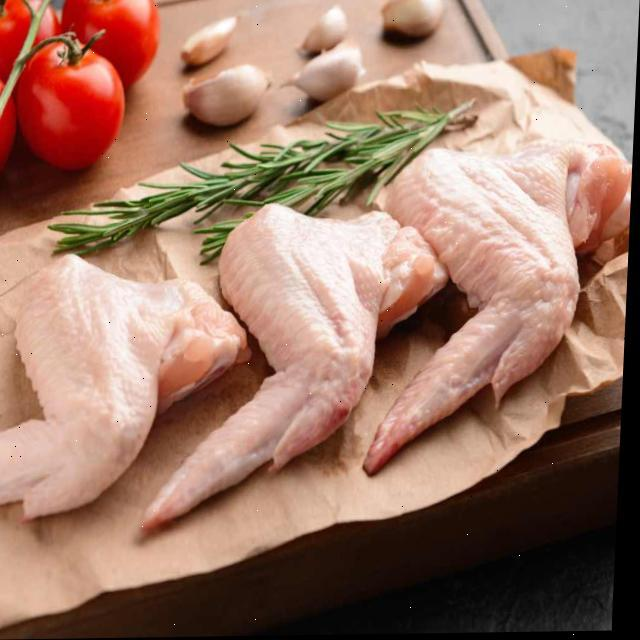wing: (185, 201, 438, 518), (385, 128, 625, 430), (0, 252, 241, 526)
